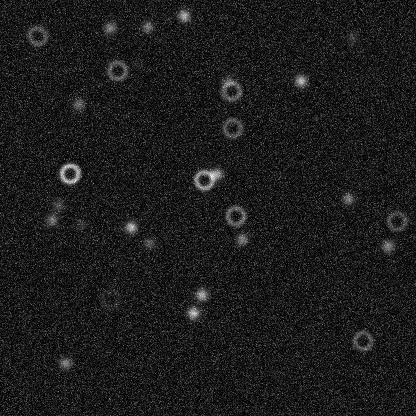Ring: (219, 78, 243, 102), (98, 286, 122, 310), (25, 23, 49, 47), (223, 203, 247, 227), (220, 115, 244, 139), (105, 58, 129, 82), (192, 167, 216, 191), (57, 161, 81, 185), (350, 328, 374, 352), (384, 209, 408, 233)
Spot: (122, 219, 138, 235), (344, 30, 360, 46), (57, 354, 73, 370), (339, 190, 355, 206), (208, 165, 224, 181), (175, 7, 191, 23), (379, 238, 395, 254), (128, 55, 144, 71), (219, 73, 235, 89), (233, 231, 249, 247), (292, 72, 308, 88), (193, 286, 209, 302), (101, 19, 117, 35), (70, 96, 86, 112), (185, 304, 201, 320), (43, 211, 59, 227), (49, 196, 65, 212), (139, 18, 155, 34), (73, 216, 89, 232), (141, 234, 157, 250)
